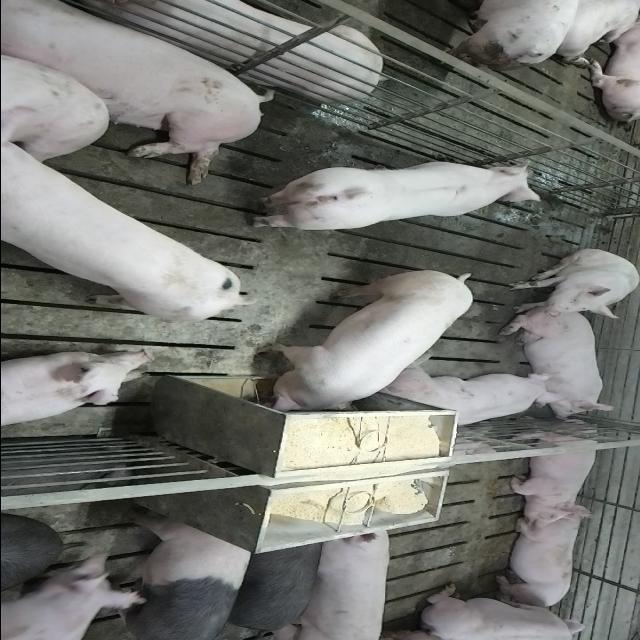Feeding: (253, 274, 475, 419)
Lateral_lying: (4, 4, 278, 188), (60, 0, 384, 103)
Sitting: (503, 249, 638, 319)
Standing: (0, 126, 249, 328), (240, 154, 544, 230), (83, 514, 256, 638), (0, 554, 148, 640), (288, 529, 389, 638), (220, 534, 324, 638)
Sternal_lying: (0, 350, 154, 432), (506, 314, 614, 424), (376, 366, 560, 430), (490, 508, 590, 610), (412, 584, 598, 638), (505, 424, 604, 522)
